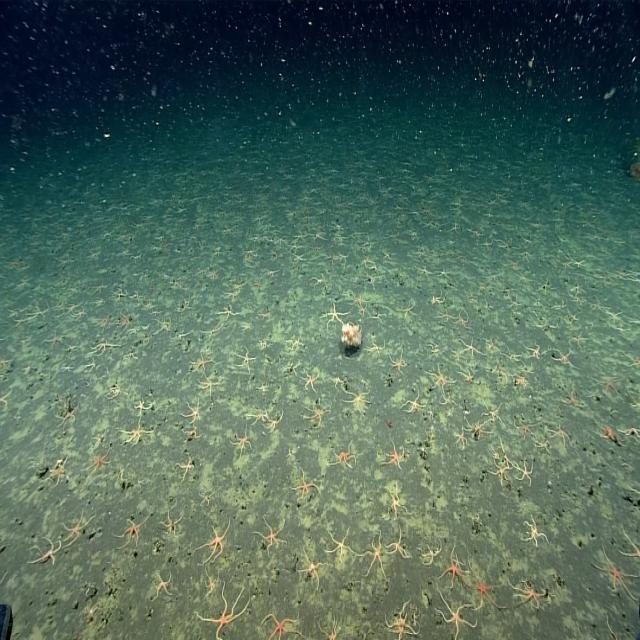brittle-stars: (194, 582, 253, 636), (592, 542, 638, 601), (467, 551, 506, 612), (434, 588, 478, 638), (382, 594, 422, 640), (508, 576, 561, 610), (196, 516, 231, 565), (356, 528, 388, 581), (114, 510, 151, 550), (323, 524, 358, 566), (260, 609, 307, 640), (298, 542, 328, 590), (439, 544, 468, 592), (252, 515, 286, 555), (62, 509, 96, 549), (380, 481, 413, 519), (29, 536, 62, 570), (426, 361, 457, 395), (291, 468, 321, 500), (520, 512, 549, 545), (343, 387, 371, 421), (327, 438, 358, 467), (322, 302, 350, 334), (546, 418, 573, 451), (417, 533, 442, 568), (121, 421, 155, 446), (302, 398, 330, 428), (84, 448, 112, 478), (232, 423, 253, 460), (487, 456, 512, 487), (382, 437, 406, 468), (46, 452, 69, 484), (514, 454, 534, 490), (480, 396, 504, 426), (234, 344, 256, 376), (398, 389, 426, 414), (160, 508, 183, 538), (458, 336, 484, 362), (556, 385, 583, 410), (89, 338, 123, 357), (150, 570, 172, 599), (464, 416, 489, 441), (189, 352, 215, 376), (180, 398, 203, 424), (104, 379, 130, 402), (512, 418, 540, 439), (388, 346, 407, 376), (261, 409, 283, 434), (452, 422, 469, 453), (521, 336, 542, 361), (42, 330, 66, 351), (175, 458, 195, 483), (550, 348, 575, 368), (180, 422, 203, 443), (215, 304, 239, 324), (502, 345, 524, 366), (510, 368, 530, 391), (615, 422, 640, 440), (200, 323, 225, 341), (483, 333, 500, 357), (198, 377, 218, 397), (132, 398, 152, 418), (398, 299, 419, 318), (603, 375, 622, 396), (452, 307, 470, 329), (200, 488, 220, 507), (304, 370, 320, 393), (363, 339, 385, 355), (436, 306, 458, 322), (428, 288, 447, 306), (534, 437, 552, 455), (115, 310, 133, 328), (246, 413, 270, 426), (358, 304, 371, 318)
